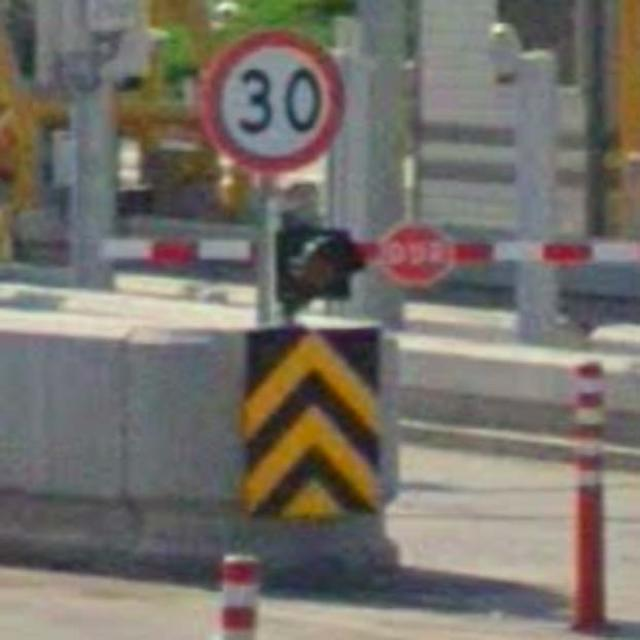30: (202, 30, 344, 168)
dur: (382, 225, 454, 286)
